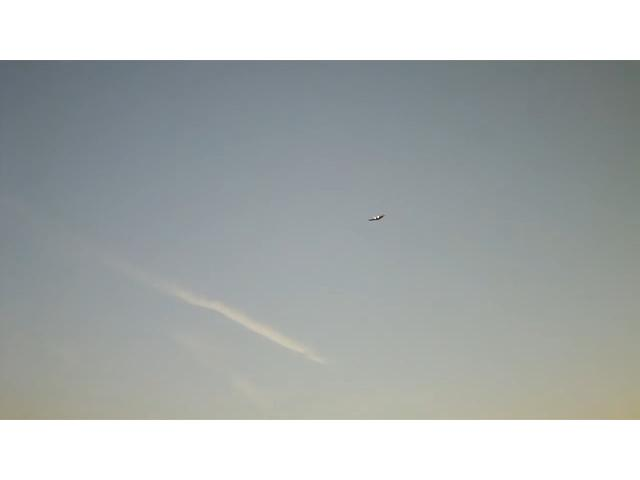Anti-Drone: (370, 214, 384, 220)
